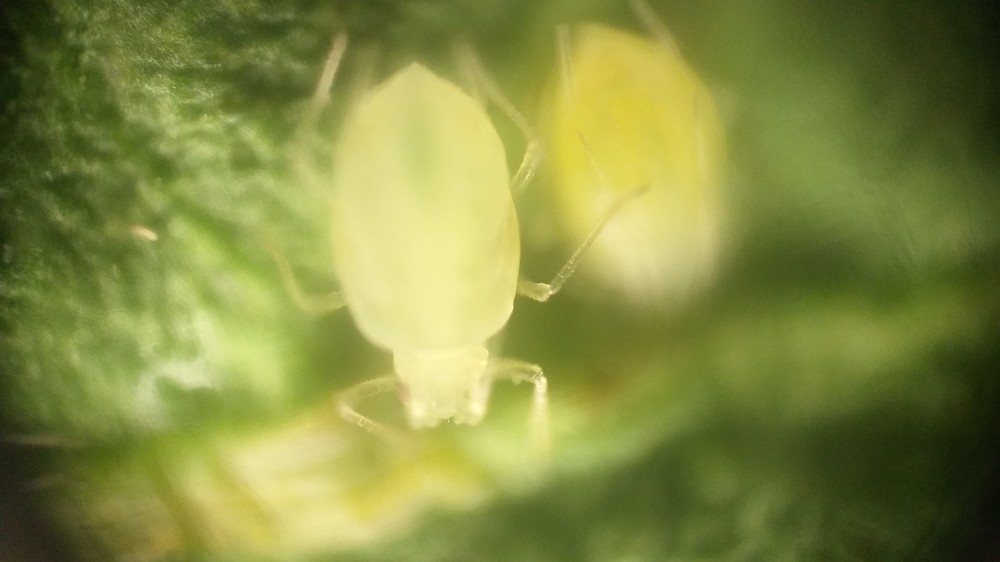Pulgon: (271, 43, 564, 452)
